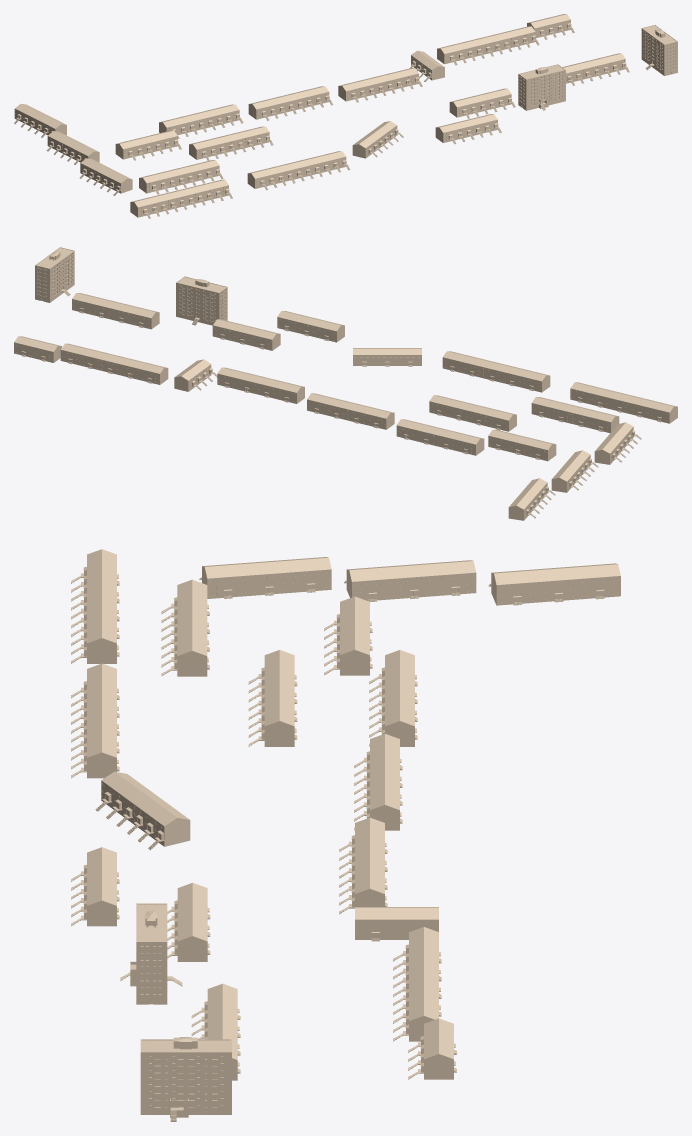
The model's file is mulgravePark_LOD0.fbx.
The picture shows the model from 3 angles, top to bottom: view 1: azimuth 30°, elevation 25°; view 2: azimuth 150°, elevation 25°; view 3: azimuth 270°, elevation 25°; orthographic projection. The views are drawn at different scales.
Parts seen in each view (by area): view 1: Model; view 2: Model; view 3: Model.
Boxes of the visible parts, x1=… form: Model: x1=14, y1=14, x2=677, y2=218; Model: x1=14, y1=247, x2=677, y2=520; Model: x1=71, y1=549, x2=620, y2=1121.
Size of the model in its own units: 8.52 by 0.5079 by 3.6.
8 materials, 8 textured.
